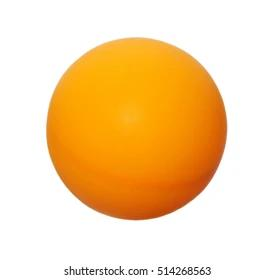oball: (44, 31, 240, 227)
